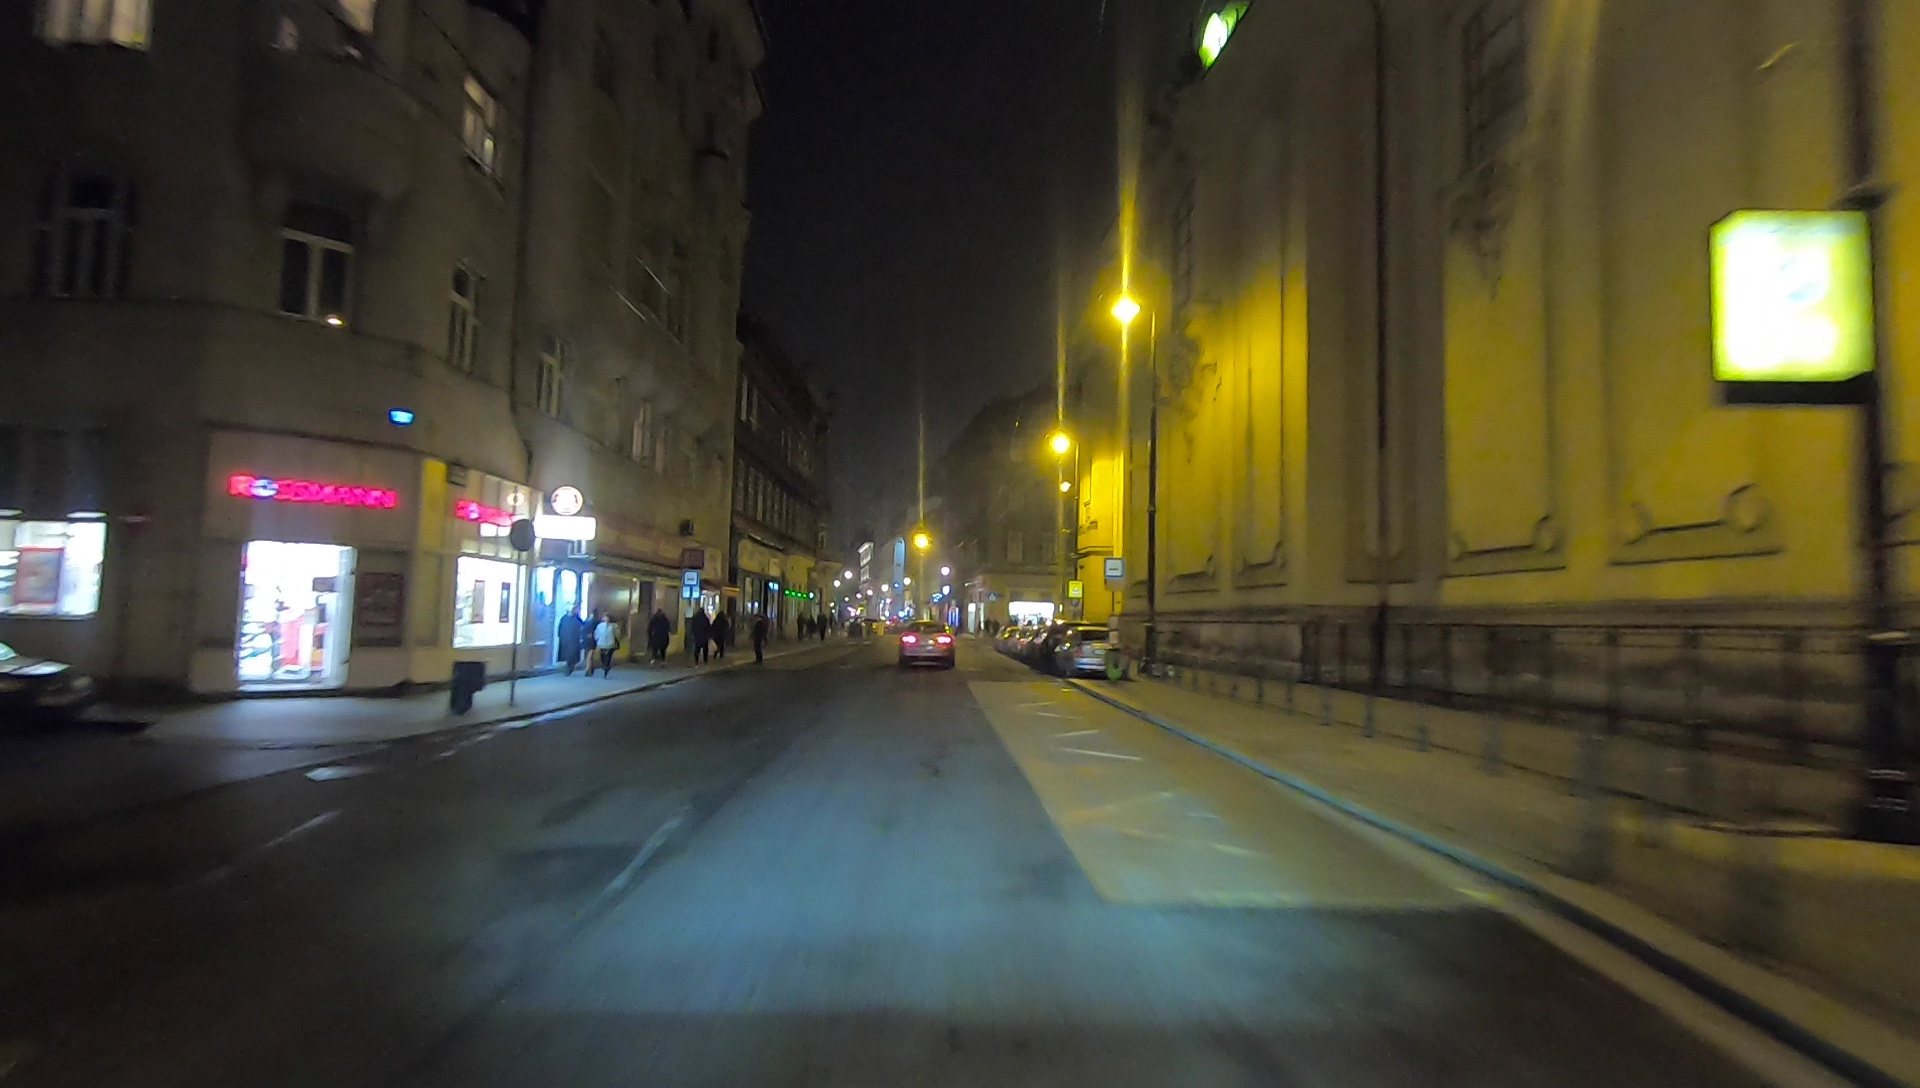person: (558, 603, 582, 675), (646, 605, 669, 665), (598, 617, 617, 678), (583, 608, 597, 675), (750, 611, 768, 665), (694, 609, 710, 663), (712, 611, 727, 663), (806, 612, 815, 645), (818, 611, 827, 644), (796, 610, 802, 638)
